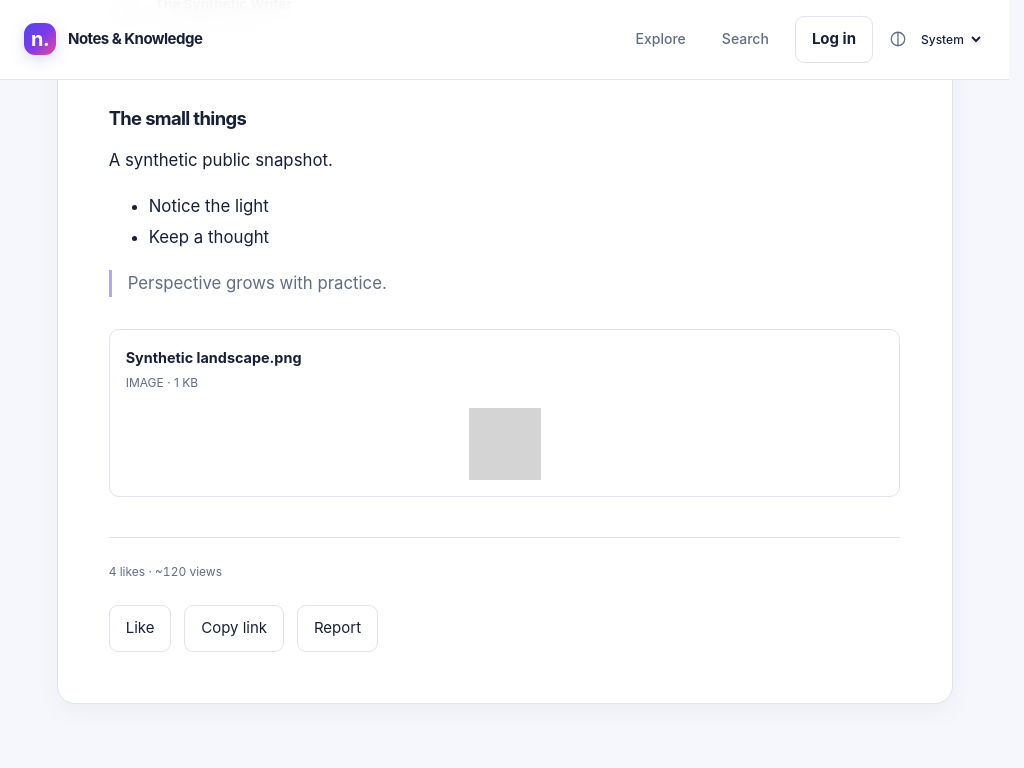
public routes and boundaries › offers anonymous Like sign-in continuation without a mutation
(page scrolled)
Step 1. Click the button "Like" → (140,628), box [109,605,172,652]
(page scrolled)
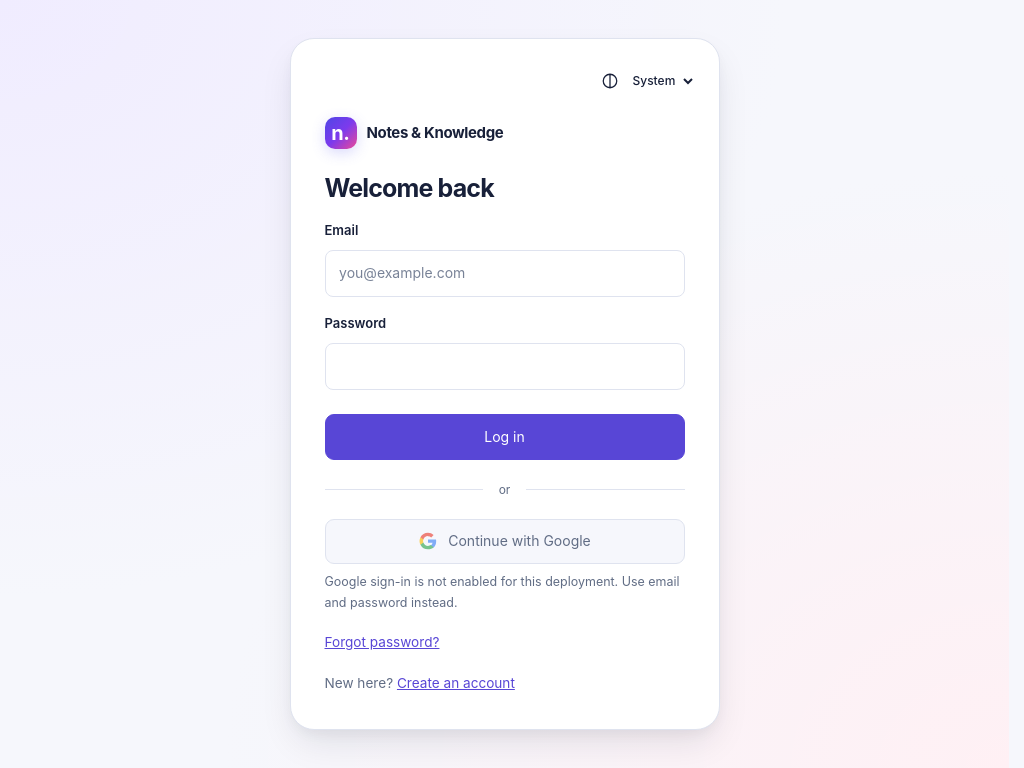
Expected: the heading "Welcome back" is shown, [324,173,494,203]
